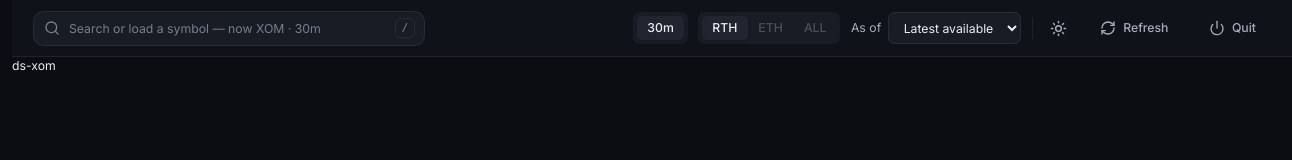
Refresh button › refreshes every listed stock, selects the new copy on screen and starts the history update once
This screenshot has width=1292, height=160.
Click the button "Refresh": coordinates (1134, 28) [1085, 12, 1184, 44]
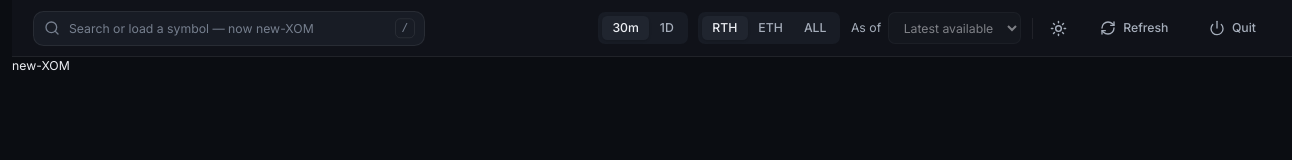
expect the text with test id "selected" reads "new-XOM": met, box [12, 58, 70, 73]
